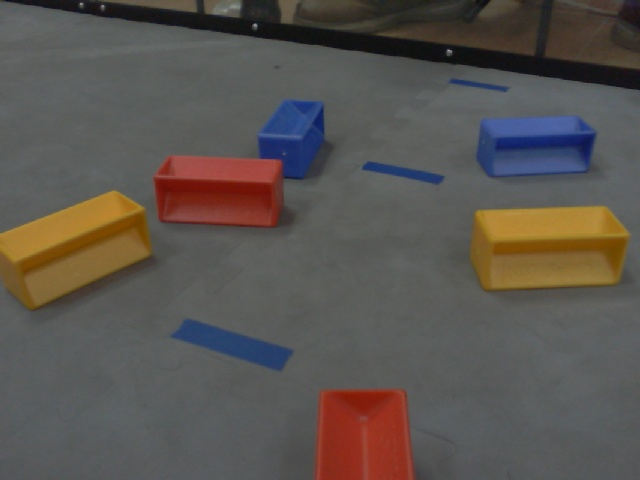BlueSample: (471, 114, 599, 176), (254, 93, 333, 182)
RedSample: (153, 153, 285, 230), (312, 384, 416, 480)
YellowSample: (1, 187, 155, 309), (468, 206, 633, 292)
